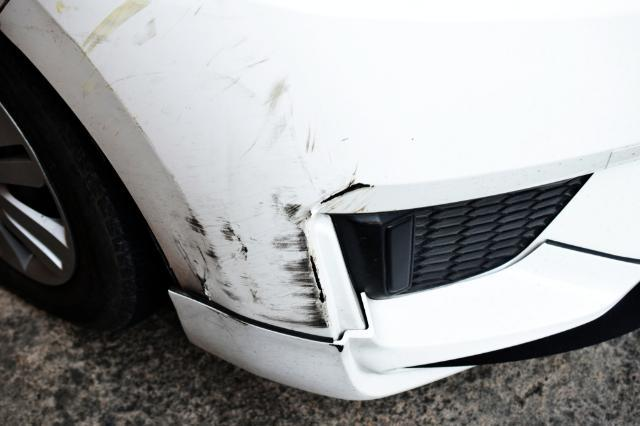scratch: (178, 176, 378, 333), (216, 47, 329, 168)
